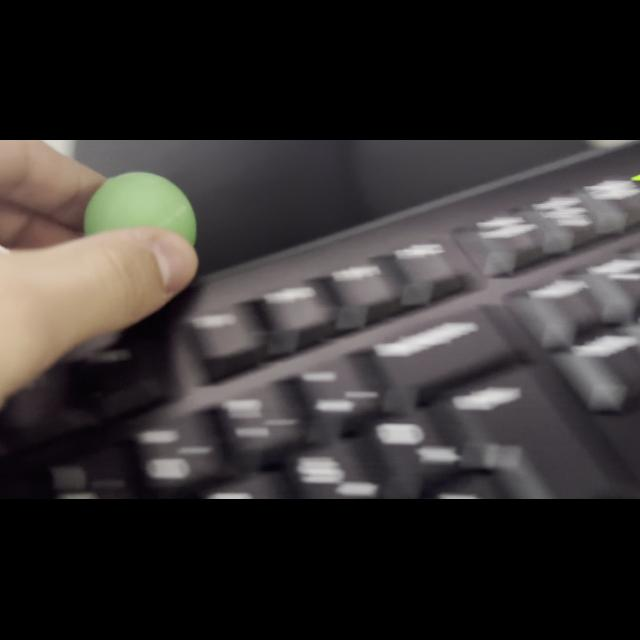objects: (82, 164, 200, 246)
